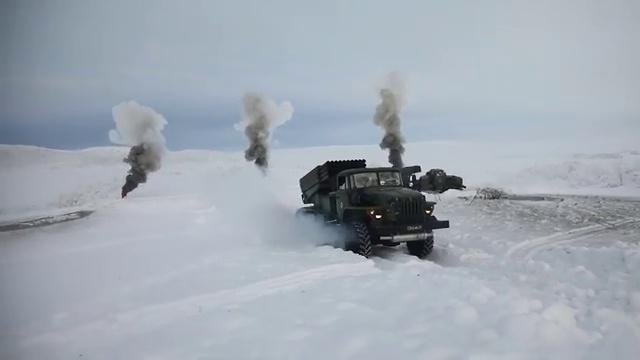MIL_SAM_TEL: (291, 155, 445, 262), (402, 161, 465, 194)
